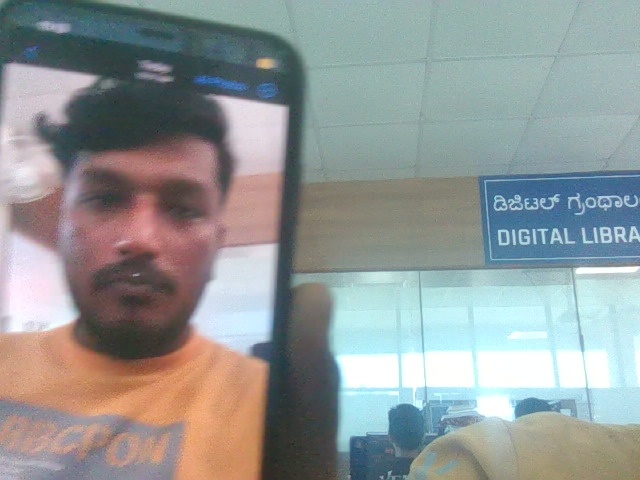fake: (31, 46, 256, 365)
